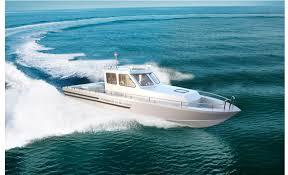Ship: (65, 66, 241, 128)
